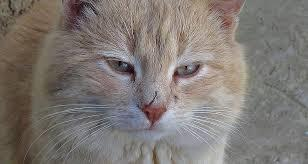cut: (139, 86, 167, 110)
